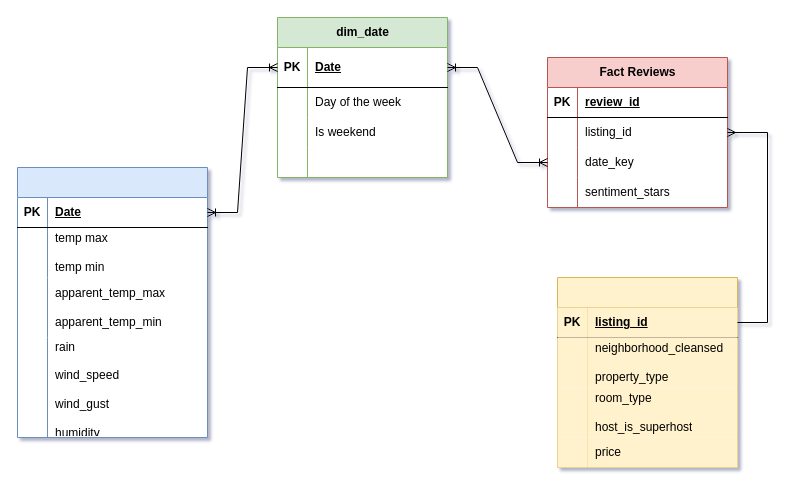
Image size: 799x491. Some labels were removed from this diagram. The shapes that lost their labels are listed below. From the top down, each one's box as (x1, y1, x2, y2) in pixels, then its label:
(16, 166, 208, 438): Fact Weather
(556, 276, 738, 468): dim_listing
